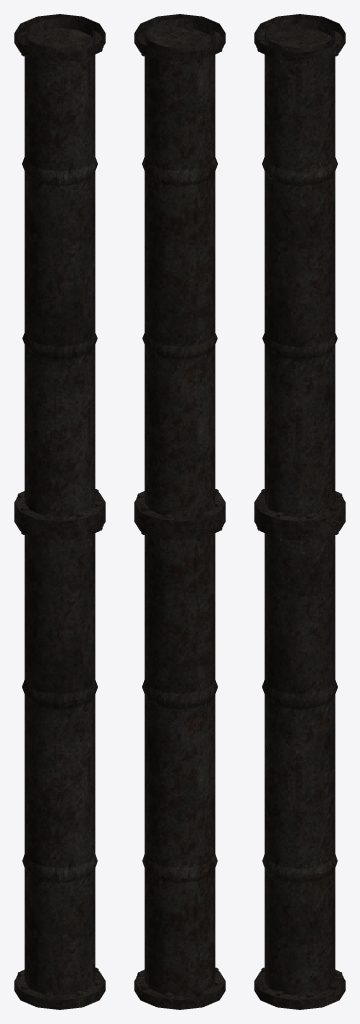
File: pipe_1.glb
3 views of the same model, side by side, from view 1: azimuth 30°, elevation 25°; view 2: azimuth 210°, elevation 25°; view 3: azimuth 330°, elevation 25° (orthographic).
Visible parts, largest first — view 1: pipe_1; view 2: pipe_1; view 3: pipe_1.
Boxes of the visible parts, x1,y1,x2,y2 form: pipe_1: [14, 14, 105, 1009]; pipe_1: [134, 14, 225, 1009]; pipe_1: [254, 14, 345, 1009].
Bounding box in the file's own units: 0.26 × 3 × 0.26.
Materials: 1 (1 with a texture image).
